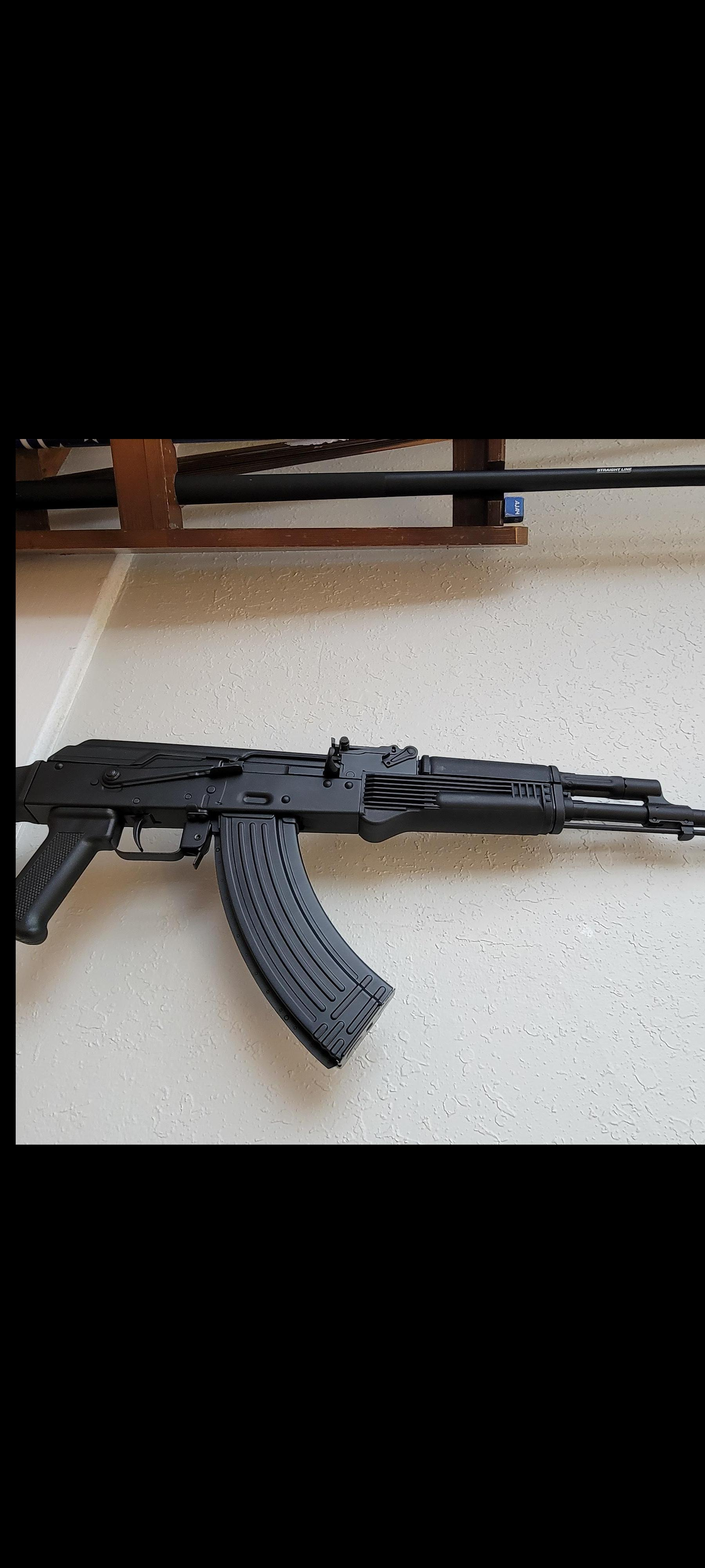larga: (18, 729, 705, 1072)
